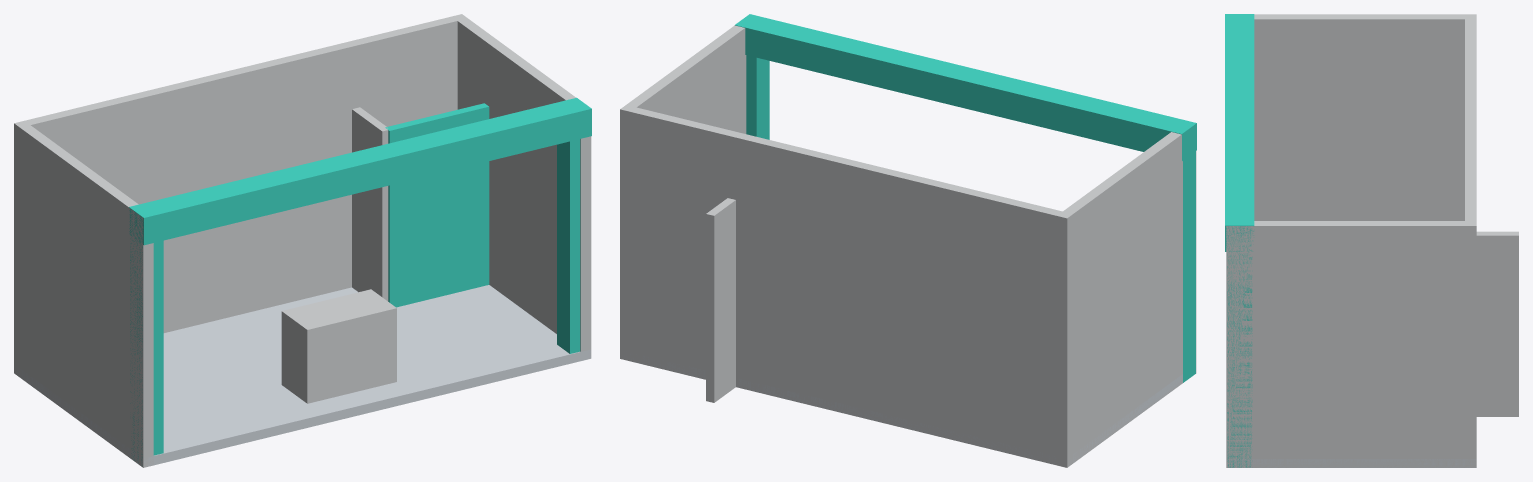
3 views of the same model, side by side, from view 1: azimuth 30°, elevation 25°; view 2: azimuth 150°, elevation 25°; view 3: azimuth 270°, elevation 25° (orthographic). The views are drawn at different scales.
Visible parts, largest first — view 1: Exhibition Booth Concept; view 2: Exhibition Booth Concept; view 3: Exhibition Booth Concept.
Boxes of the visible parts, x1=… form: Exhibition Booth Concept: x1=14, y1=14, x2=591, y2=467; Exhibition Booth Concept: x1=620, y1=14, x2=1196, y2=467; Exhibition Booth Concept: x1=1225, y1=14, x2=1518, y2=467.
Bounding box in the file's own units: 6 × 3.2 × 3.52.
